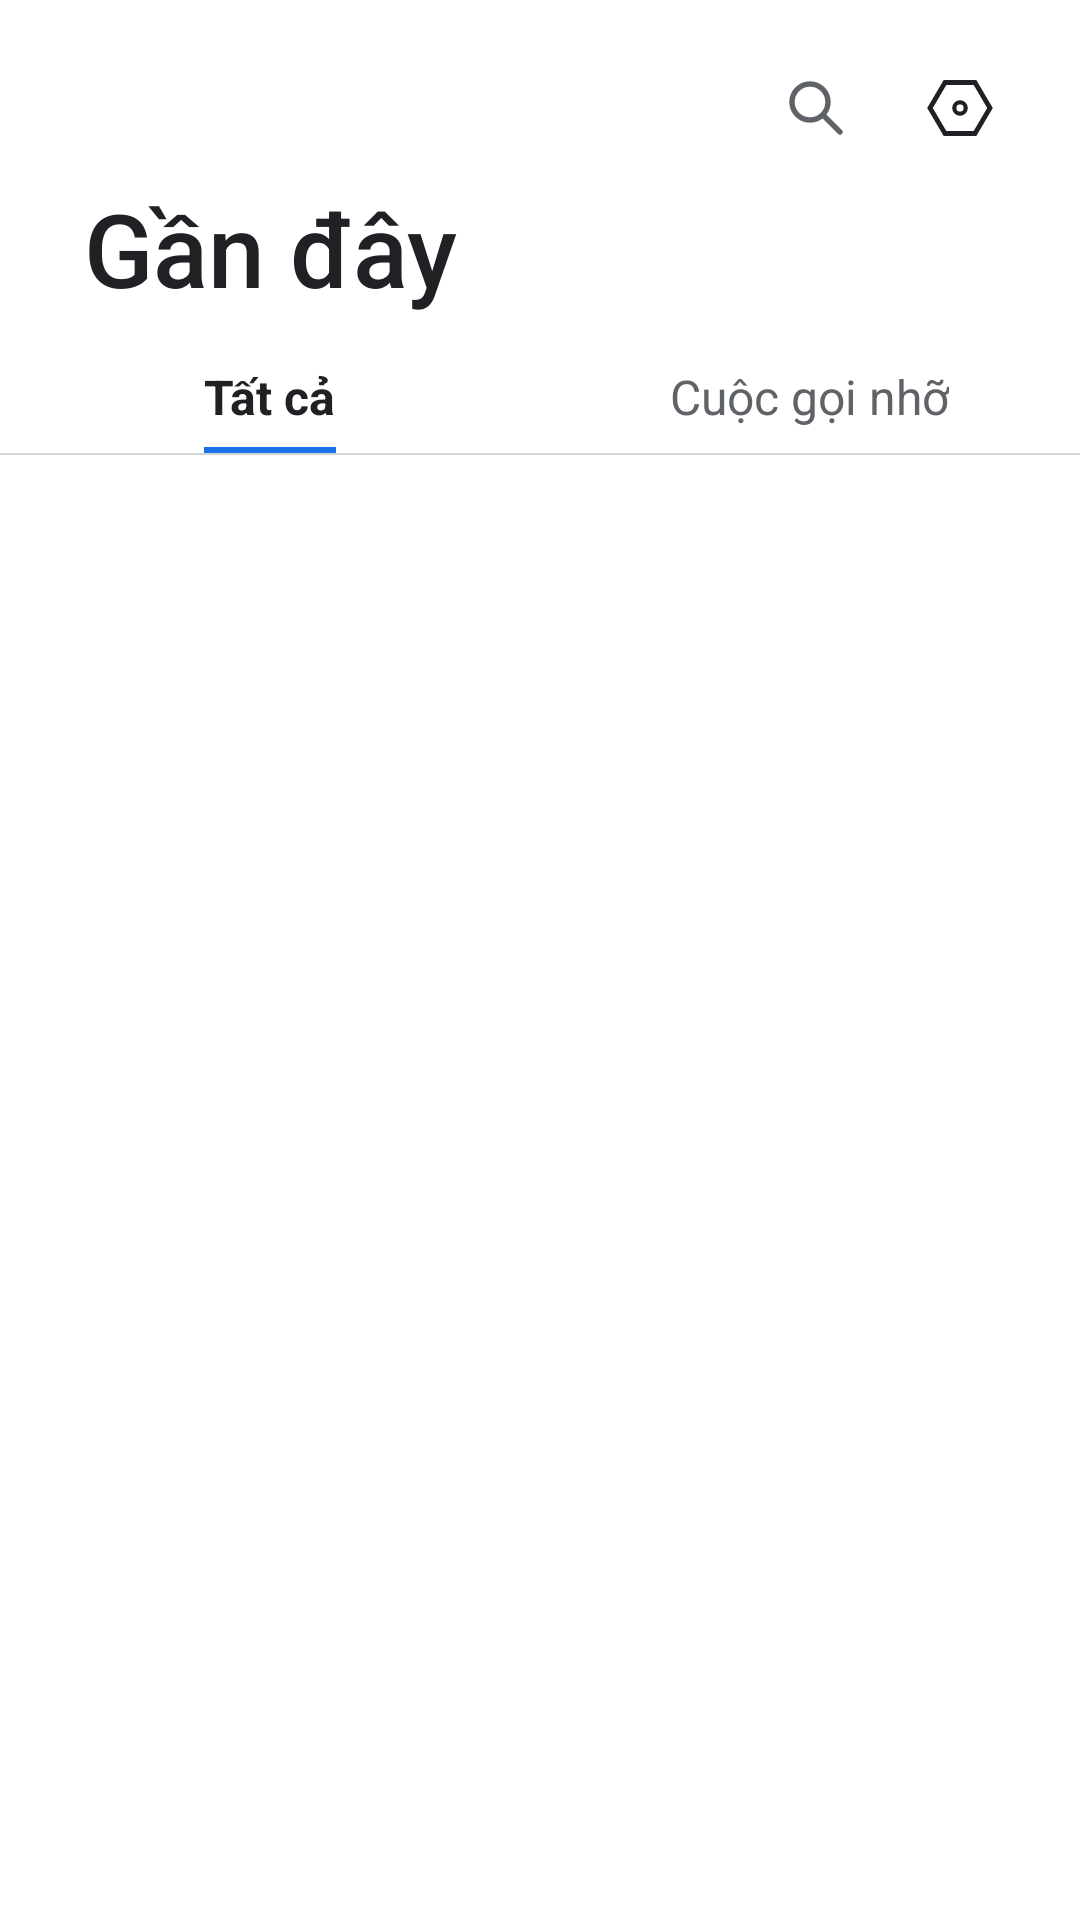

Icons on this 1080×1920 Android screen, each with the point to tap as [x,y]:
Cài đặt: [960,108]
Tìm kiếm: [816,108]
